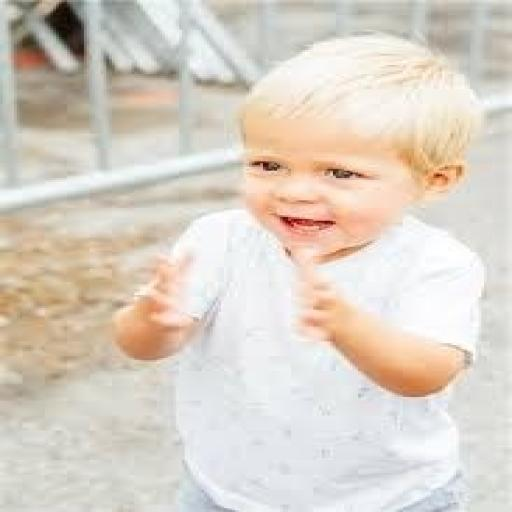clapping: (109, 30, 490, 510)
